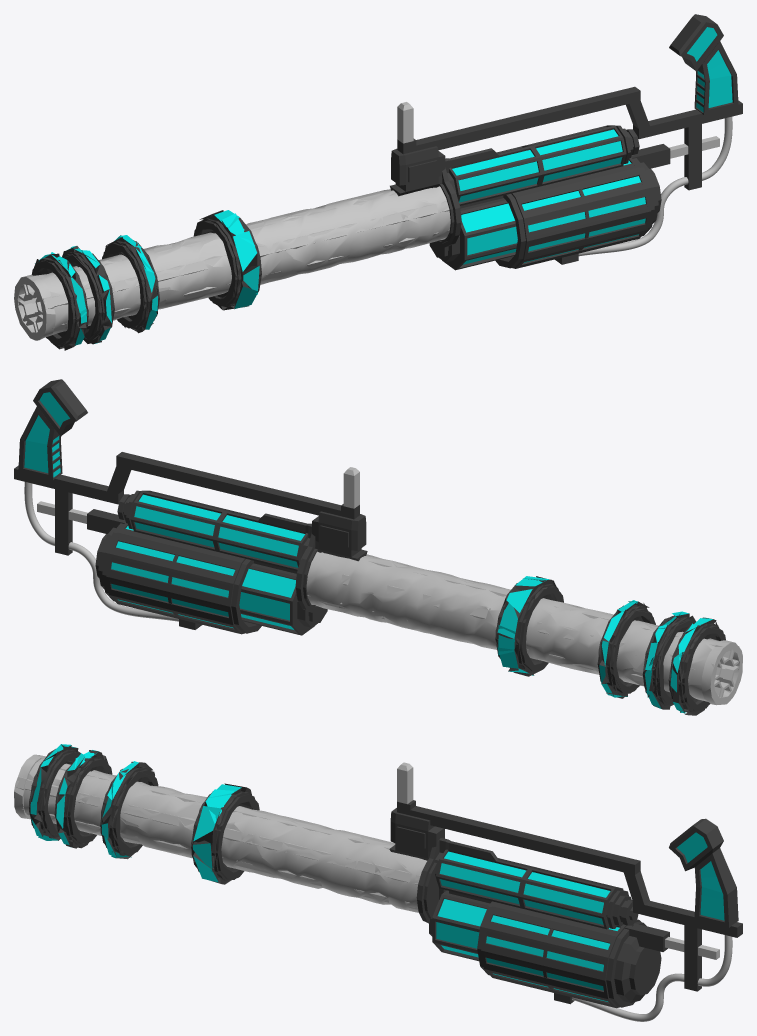
The model's file is minigun.glb.
3 views of the same model, one above another, from view 1: azimuth 30°, elevation 25°; view 2: azimuth 150°, elevation 25°; view 3: azimuth 330°, elevation 25° (orthographic).
Visible parts, largest first — view 1: body, blurbarrel, barrel; view 2: body, blurbarrel, barrel; view 3: body, blurbarrel, barrel.
Boxes of the visible parts, box(x1,y1,x2,y2) form: body: box(390, 14, 742, 270); blurbarrel: box(14, 186, 450, 350); barrel: box(18, 193, 449, 346); body: box(14, 379, 367, 635); blurbarrel: box(306, 551, 742, 715); barrel: box(307, 556, 739, 711); body: box(389, 762, 742, 1021); blurbarrel: box(14, 744, 426, 912); barrel: box(15, 749, 420, 909).
Bounding box in the file's own units: 4.19 × 1.21 × 0.5112.
